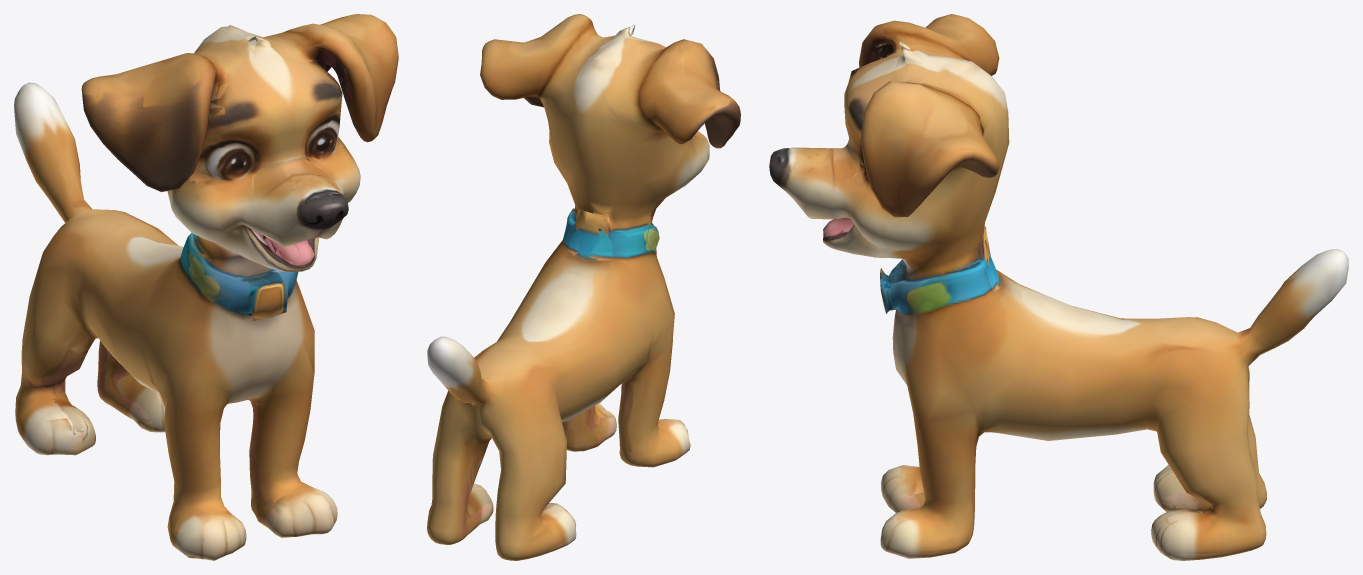
File: Dog_Model.fbx
3 views of the same model, side by side, from view 1: azimuth 30°, elevation 25°; view 2: azimuth 150°, elevation 25°; view 3: azimuth 270°, elevation 25° (orthographic). The views are drawn at different scales.
Parts seen in each view (by area): view 1: input; view 2: input; view 3: input.
Part boxes in pixels (left/top/right/bottom): input: left=14, top=14, right=398, bottom=560; input: left=427, top=14, right=740, bottom=560; input: left=769, top=14, right=1348, bottom=560.
Bounding box in the file's own units: 116 × 183 × 199.
Materials: 1 (1 with a texture image).
